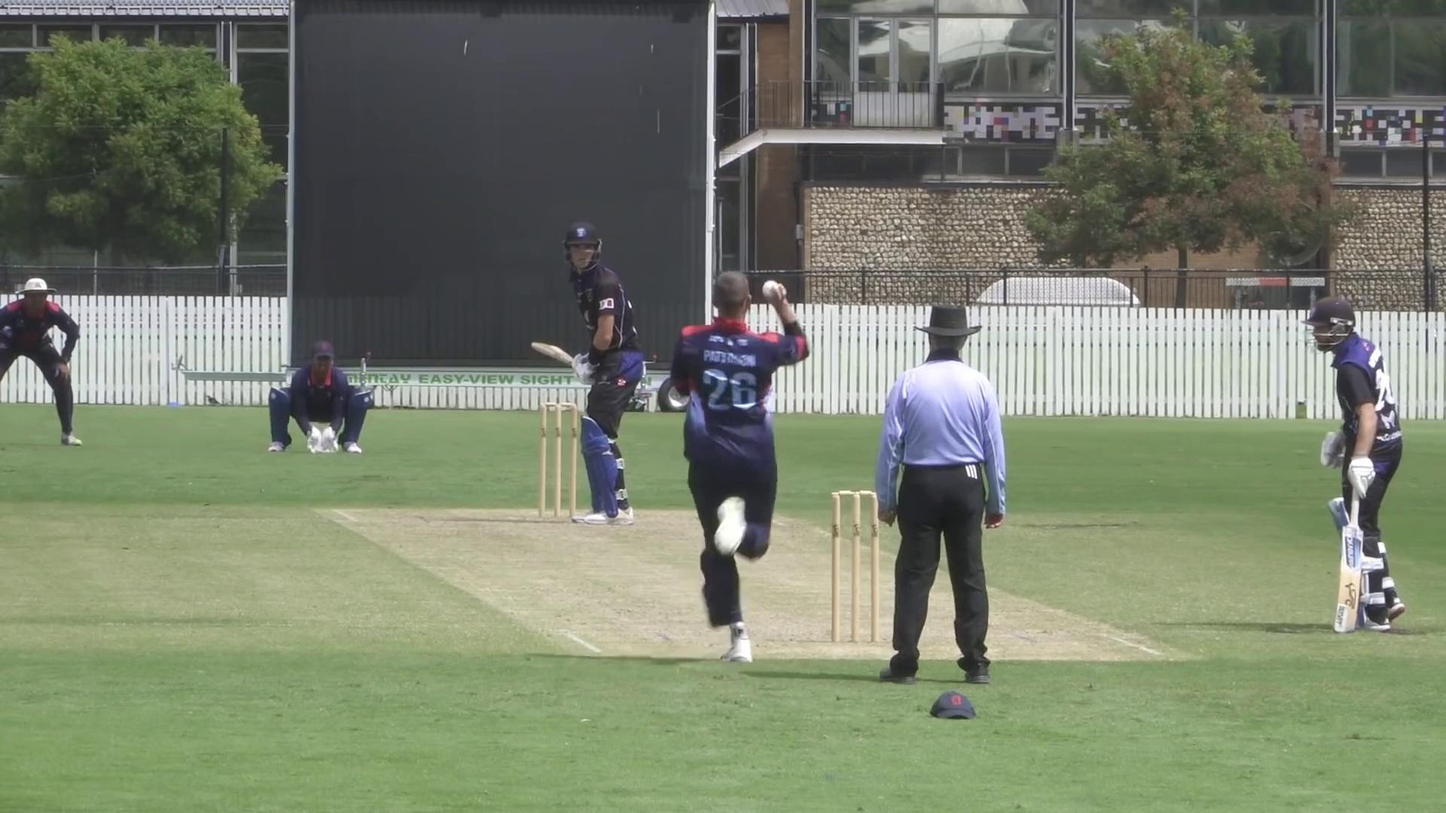ball: (759, 277, 787, 303)
